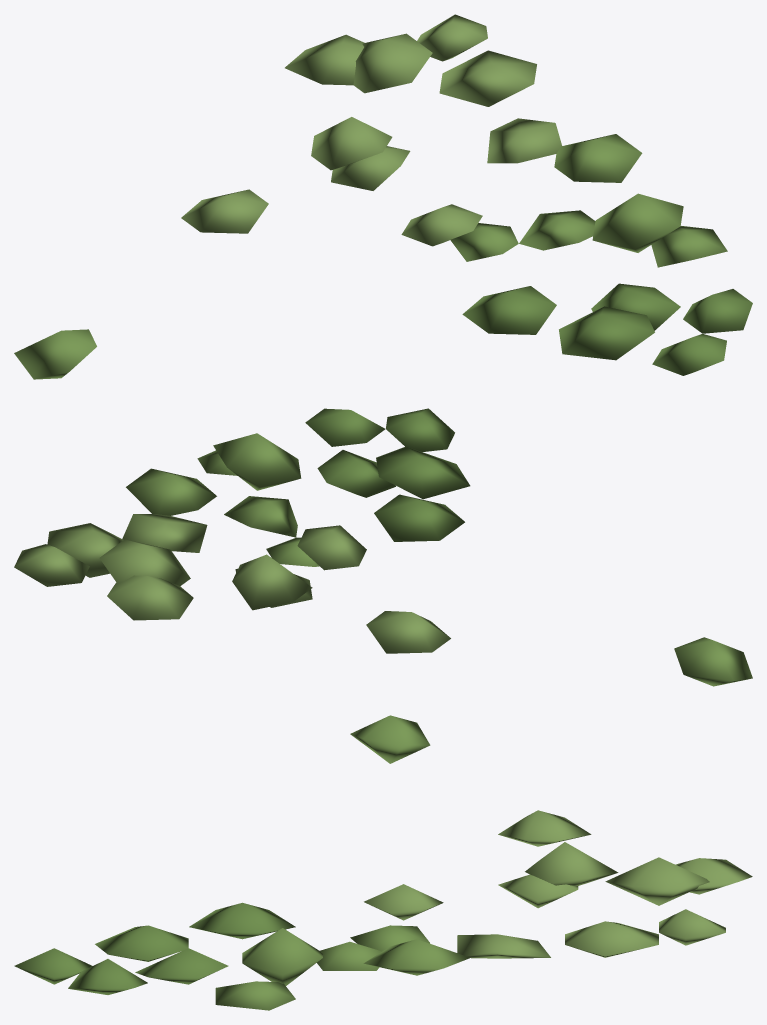
The model's file is canopy-2-0-19.glb.
The picture shows the model from 3 angles, top to bottom: view 1: azimuth 30°, elevation 25°; view 2: azimuth 150°, elevation 25°; view 3: azimuth 270°, elevation 25°; orthographic projection. The views are drawn at different scales.
Bounding box in the file's own units: 138 × 27.5 × 138.
Materials: 1 (1 with a texture image).
